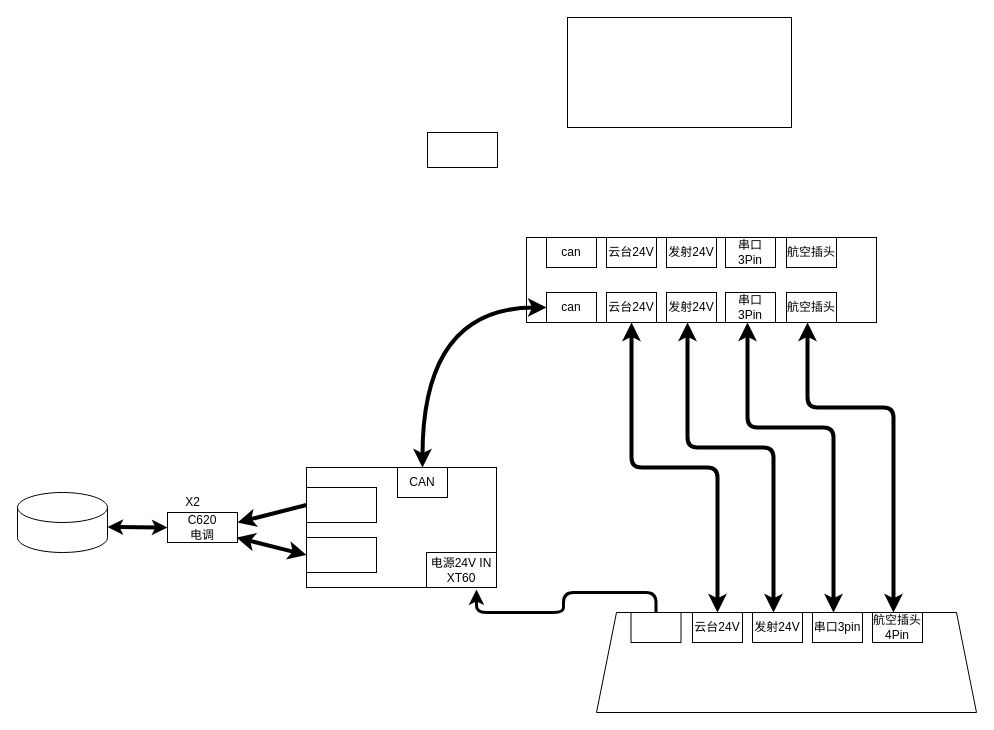
The diagram is 994 pixels wide and 730 high, and some of its shapes have lost their labels. Here are the shapes that lost their labels. From the top down, the box of each, then its label:
(566, 16, 792, 128): 云台控制板
(426, 132, 498, 168): 电源24V IN
(526, 236, 876, 322): 导电滑环
(16, 492, 108, 552): 3508 底盘电机
(306, 486, 376, 522): 24V OUT XT30
(306, 536, 376, 572): CAN JST-2PIN
(630, 612, 681, 642): 底盘24V
(596, 612, 976, 712): 裁判系统电源管理模块
